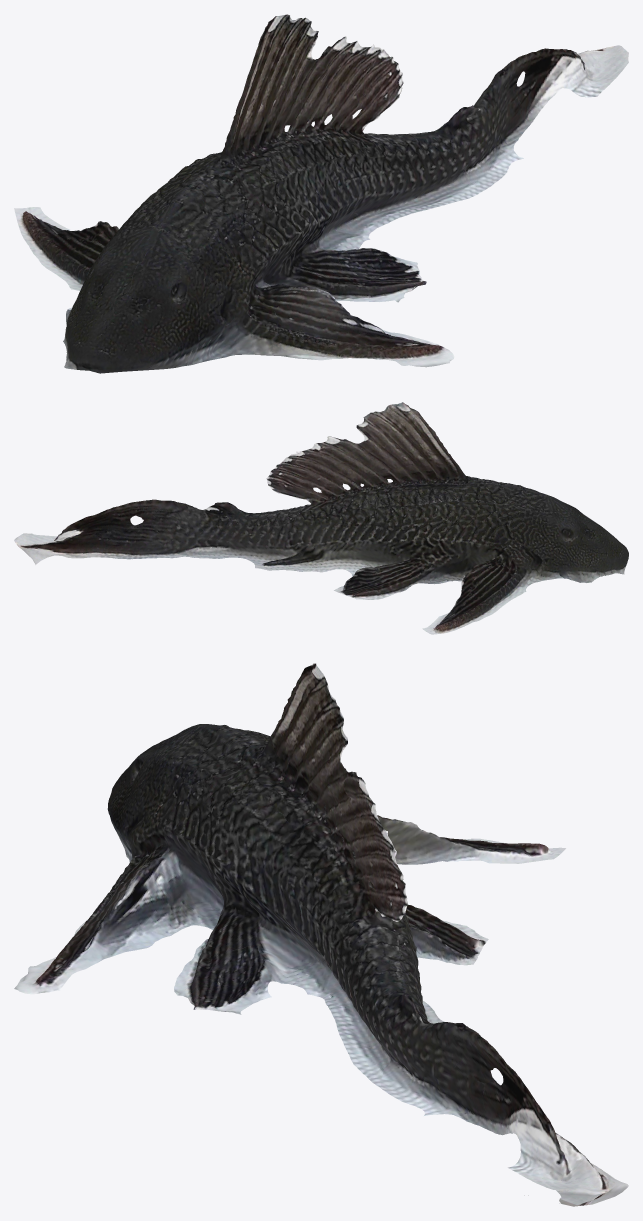
The model's file is Plerygoplichthys.glb.
3 renders of one model, top to bottom at view 1: azimuth 30°, elevation 25°; view 2: azimuth 150°, elevation 25°; view 3: azimuth 270°, elevation 25°, orthographic. The views are drawn at different scales.
Visible parts, largest first — view 1: ef5271c2-6ef5-4778-9bc0-cba850473118; view 2: ef5271c2-6ef5-4778-9bc0-cba850473118; view 3: ef5271c2-6ef5-4778-9bc0-cba850473118.
Part boxes in pixels (left/top/right/bottom): ef5271c2-6ef5-4778-9bc0-cba850473118: left=14, top=14, right=628, bottom=373; ef5271c2-6ef5-4778-9bc0-cba850473118: left=14, top=402, right=628, bottom=634; ef5271c2-6ef5-4778-9bc0-cba850473118: left=14, top=663, right=628, bottom=1206.
Size of the model in its own units: 0.8617 by 0.2954 by 0.5389.
1 material, 1 textured.
